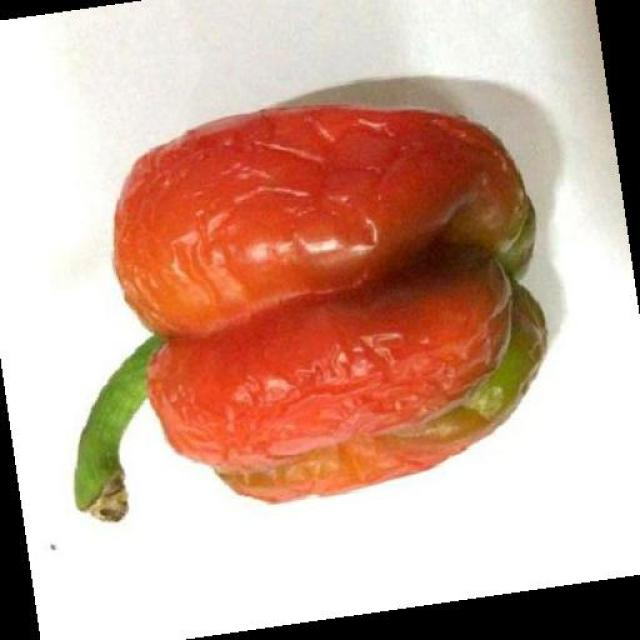Stale_Capsicum: (101, 107, 554, 492)
